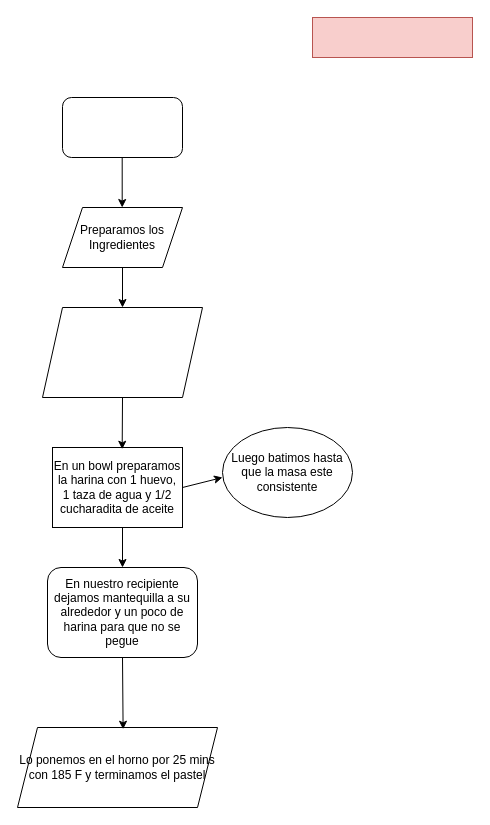
Image size: 490x825. Some labels were removed from this diagram. Here are the shapes that lost their labels. From the top down, the centre of each, then its label:
At pixel 392 37: "Realizado por Ximena Sabán 202307634".
At pixel 122 127: "PASTEL DE RED VELVET".
At pixel 122 352: "1. Caja de Red velvet 2. Huevo 3. Agua 4. Aceite 5.Mantequilla".
